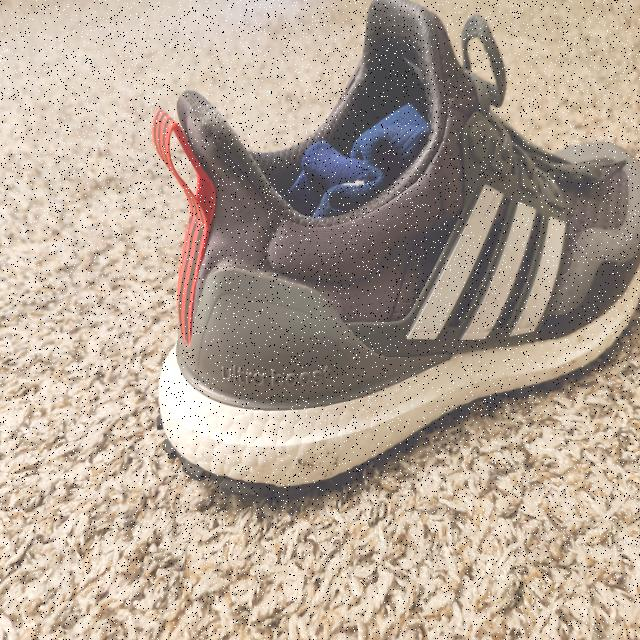black shoes: (153, 88, 640, 417)
